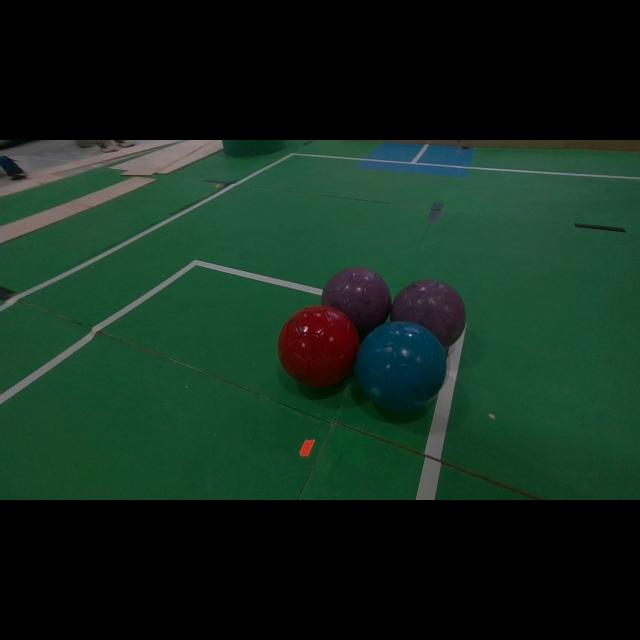B: (356, 321, 446, 411)
P: (390, 280, 466, 348), (321, 268, 391, 336)
R: (278, 305, 359, 388)
